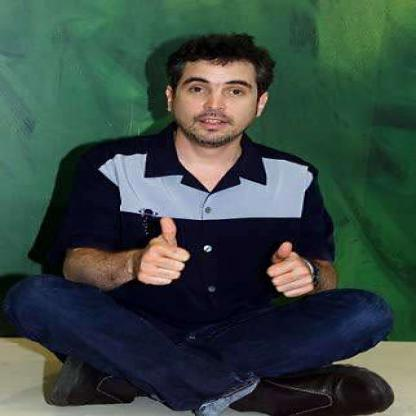face: (173, 42, 262, 148)
